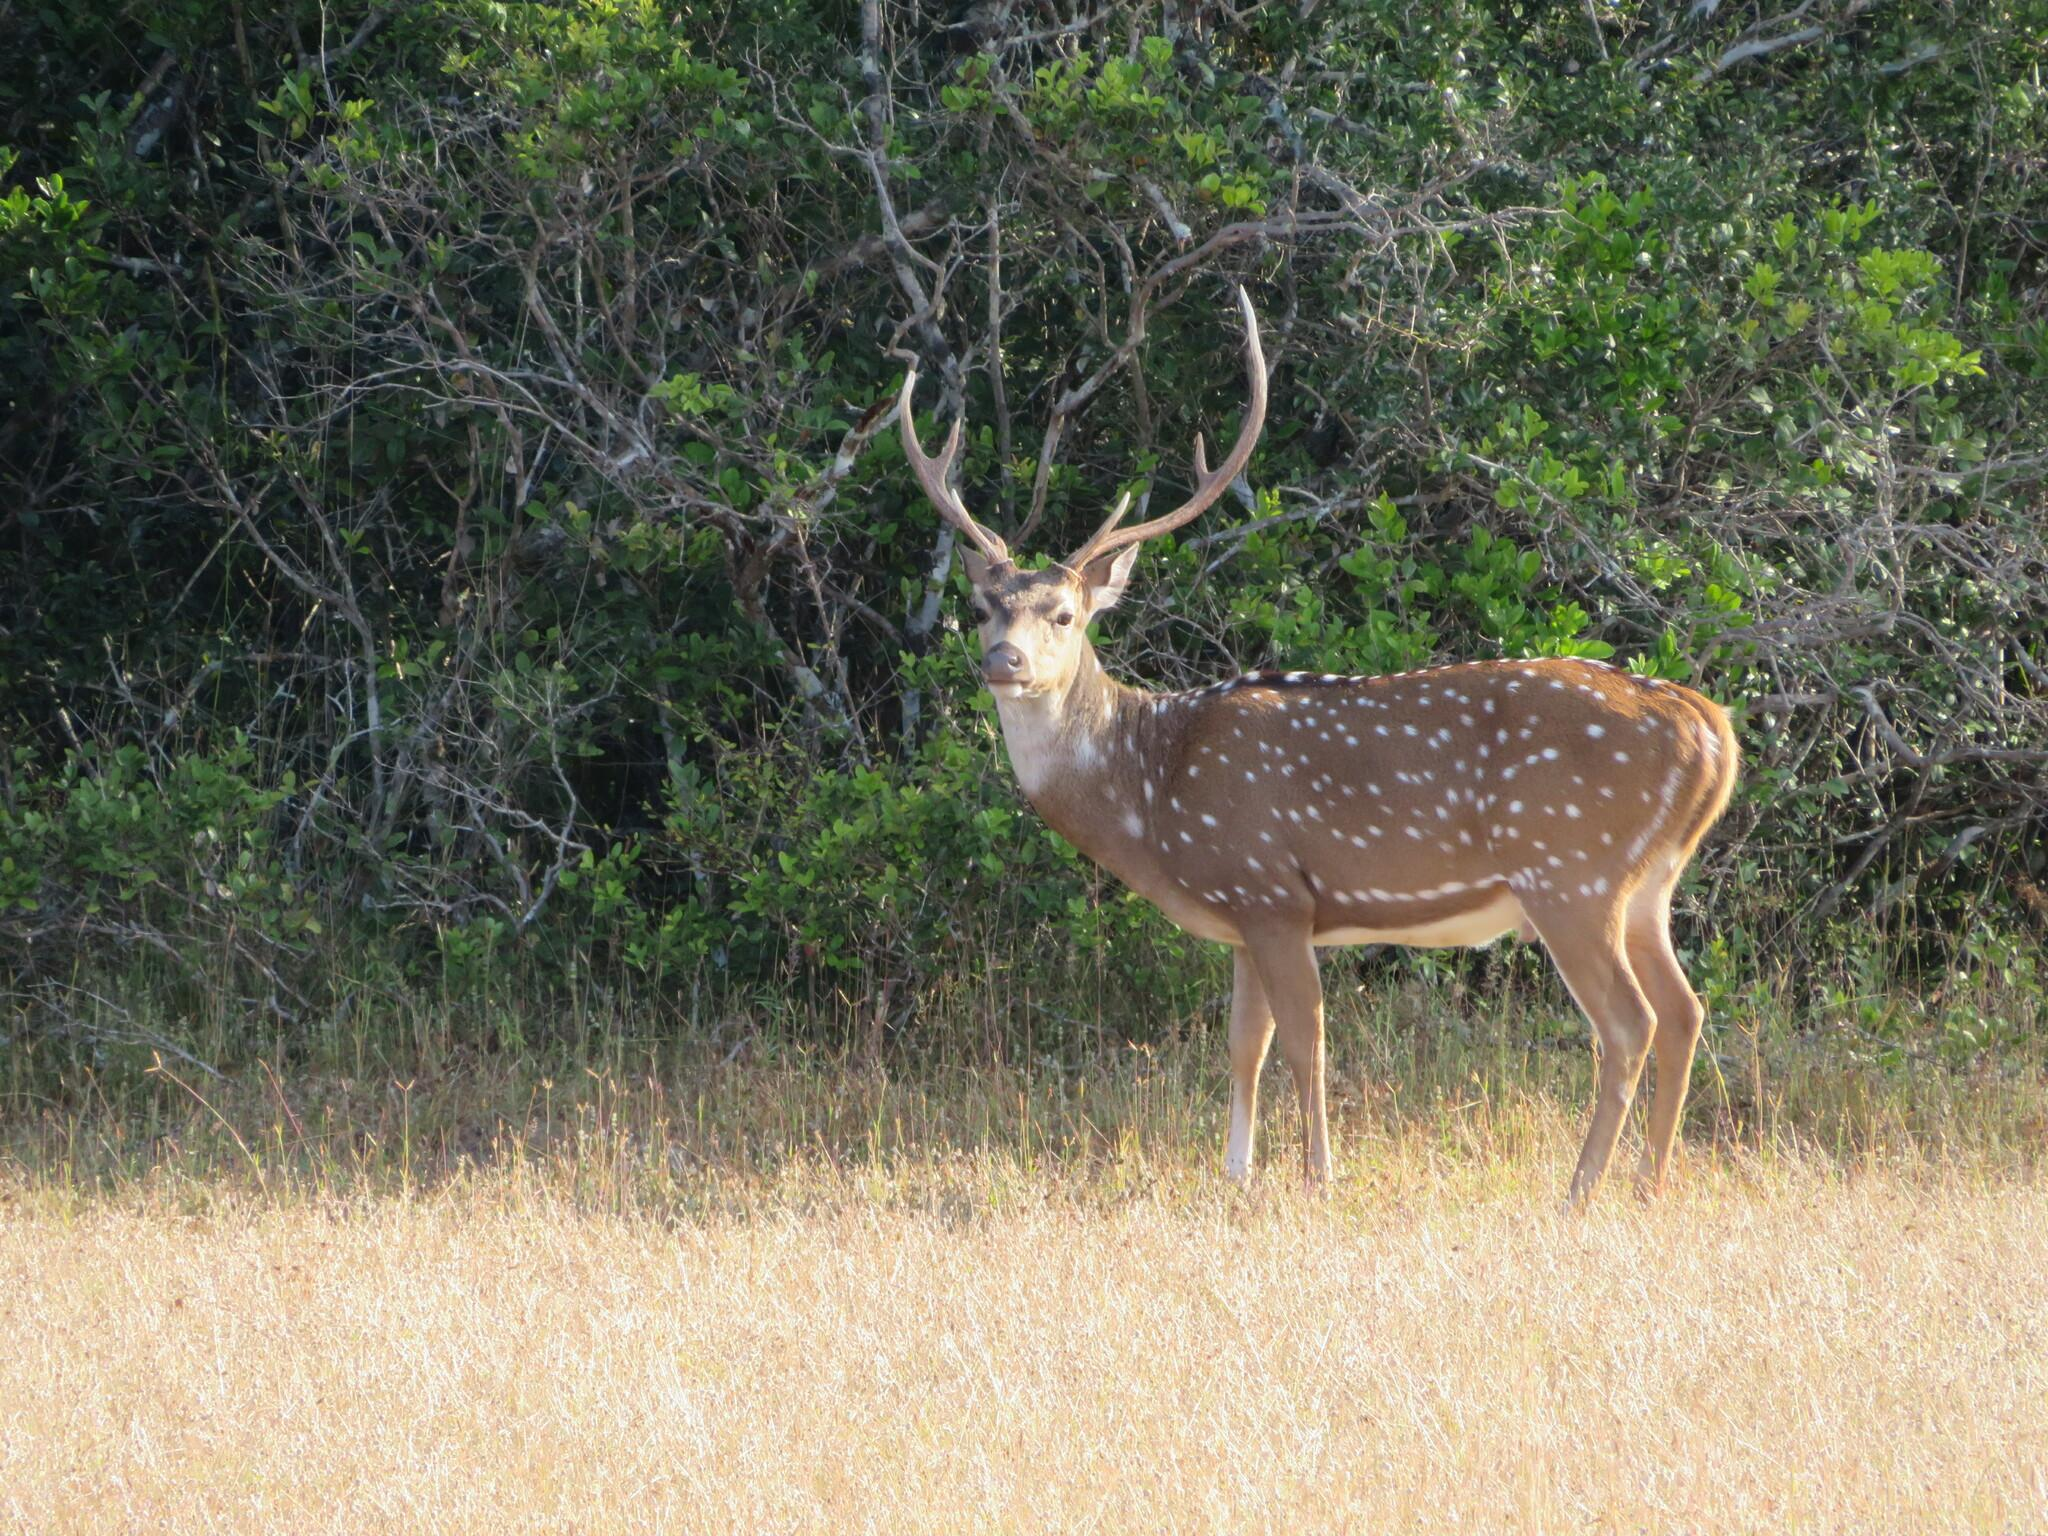Deer: (898, 287, 1737, 1205)
